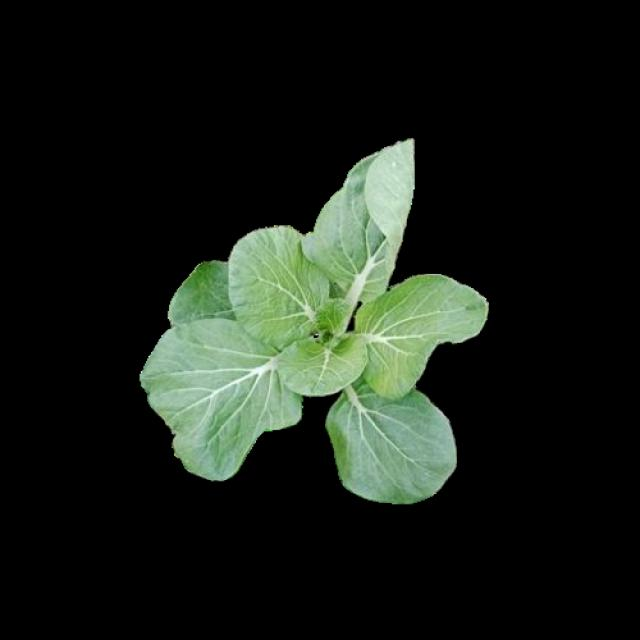healthy: (160, 146, 470, 489)
mature: (146, 138, 491, 502)
